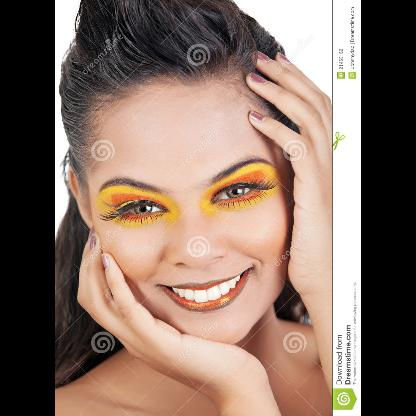Female: (67, 68, 299, 344)
